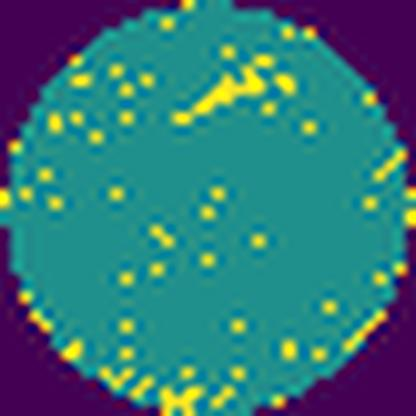Edge-Loc: (171, 54, 280, 128)
